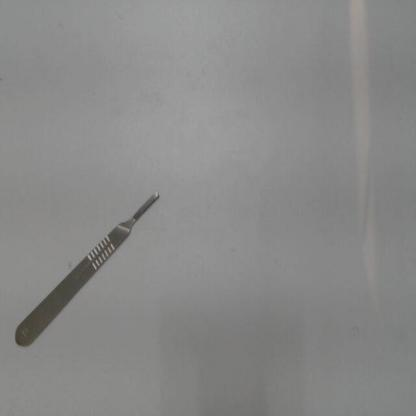No.4 BP Handle: (7, 182, 170, 359)
